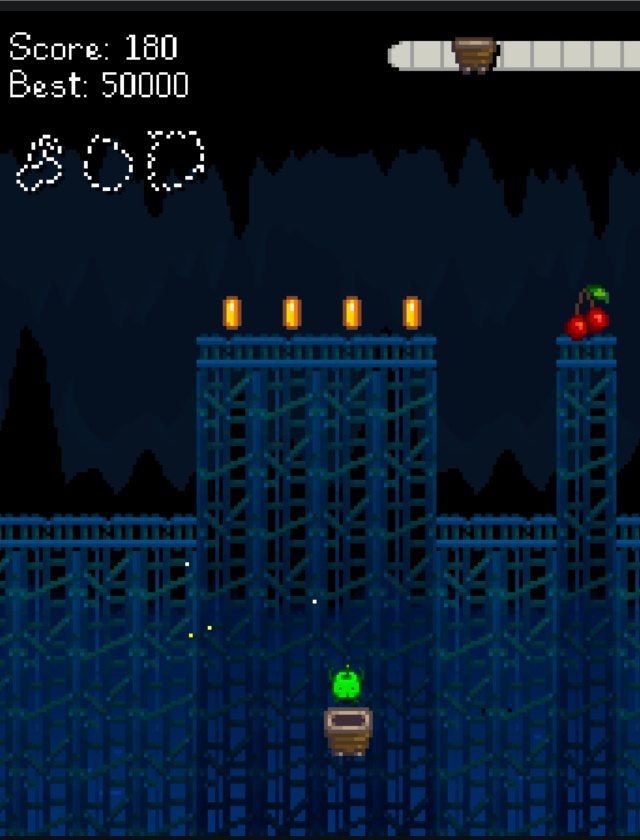cherry: (560, 280, 612, 341)
coins: (283, 296, 301, 329), (403, 296, 421, 329), (223, 296, 240, 330), (343, 296, 360, 329)
minecart: (324, 665, 372, 755)
score: (120, 28, 182, 66)
tracks: (190, 328, 439, 371), (0, 506, 201, 551), (434, 511, 563, 549), (552, 334, 620, 371), (615, 509, 640, 551)
